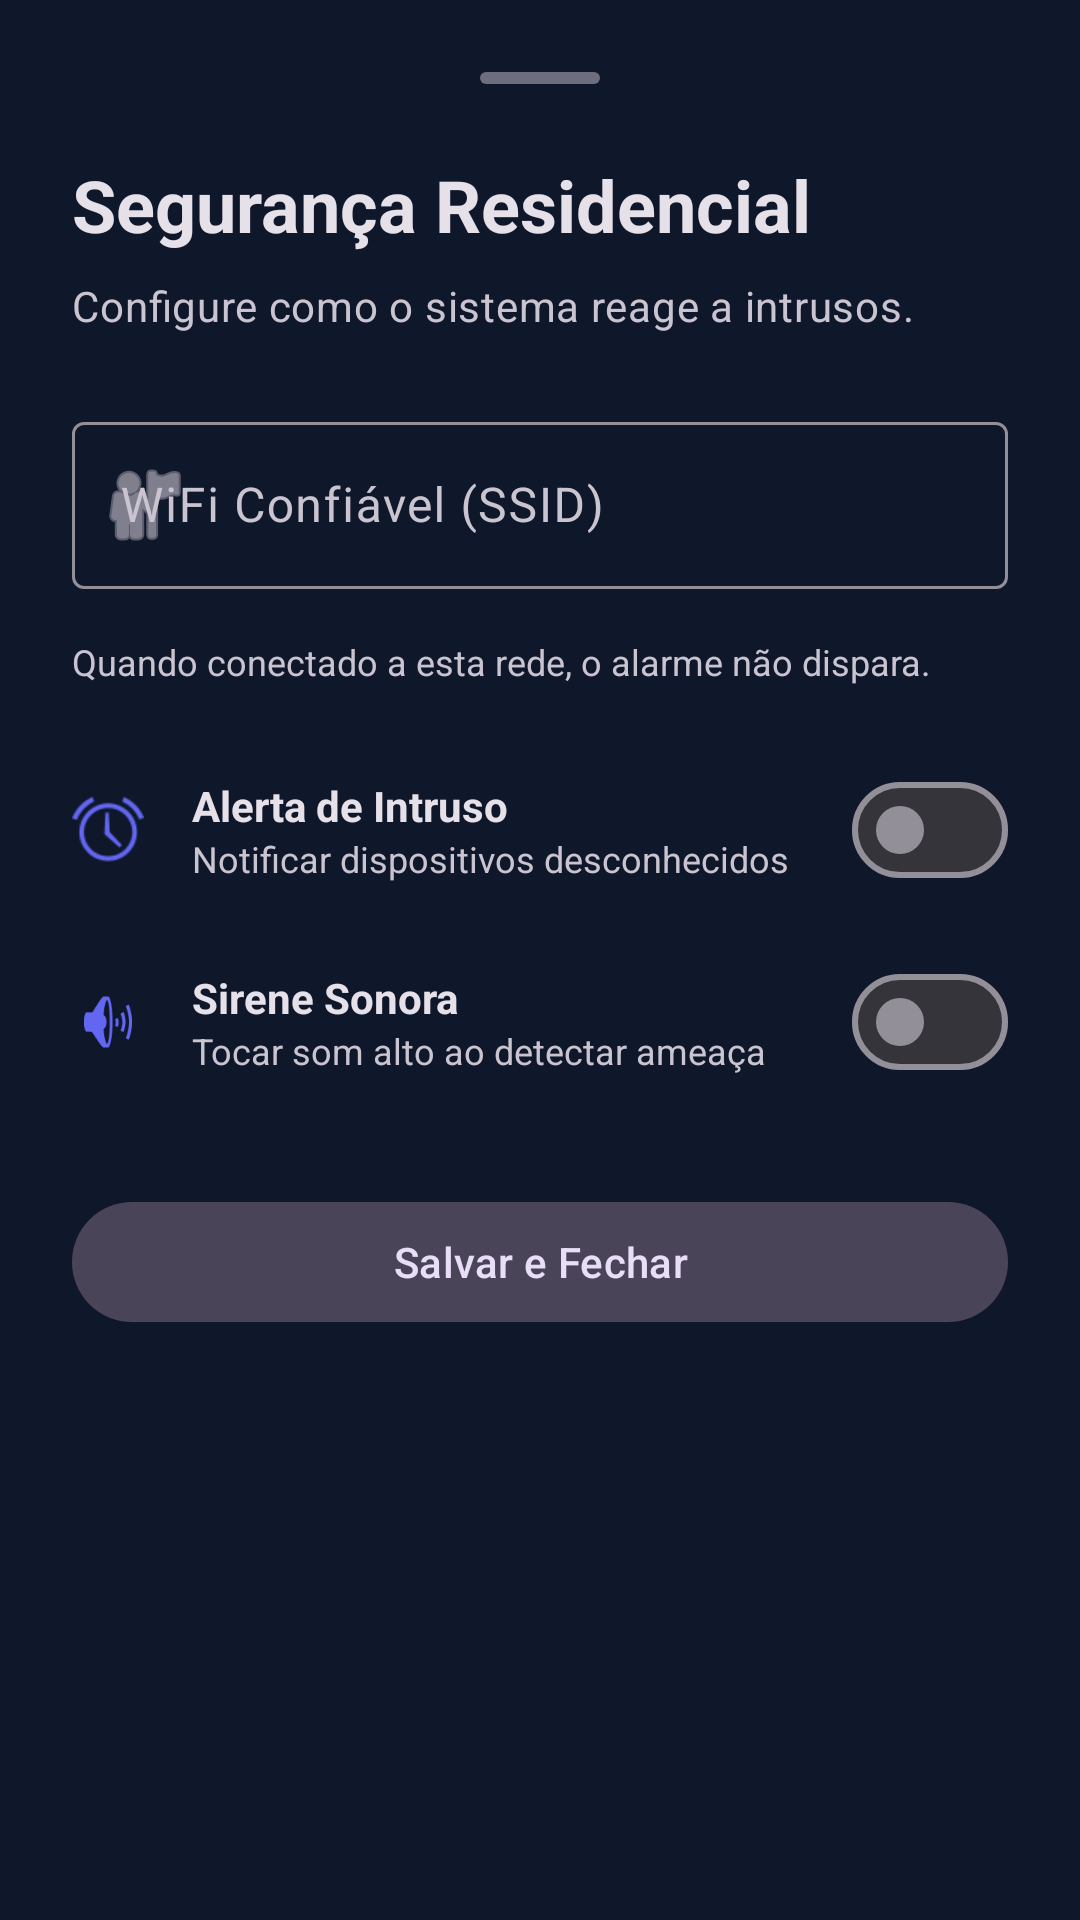

Icon click points for this 1080w x 1920h phone screenshot, format [x,y]:
lock idle alarm: [108,829]
lock silent mode off: [108,1022]
